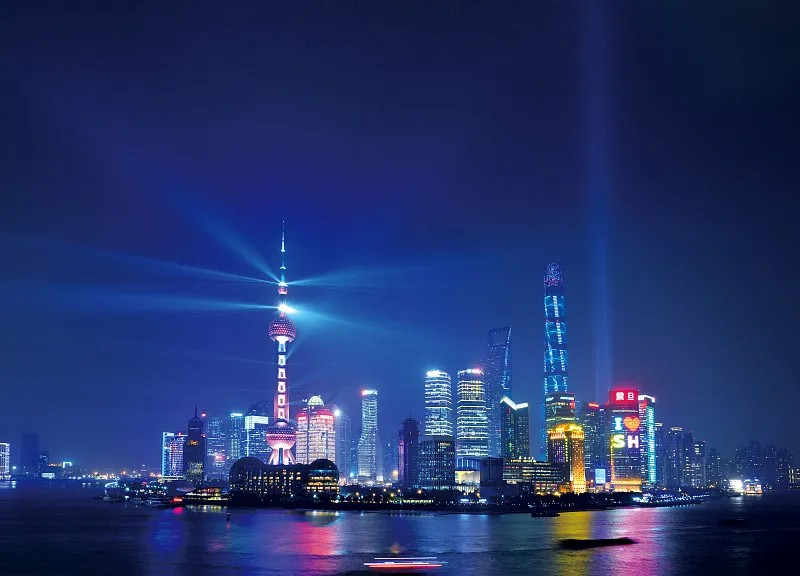Oriental: (265, 220, 297, 464)
